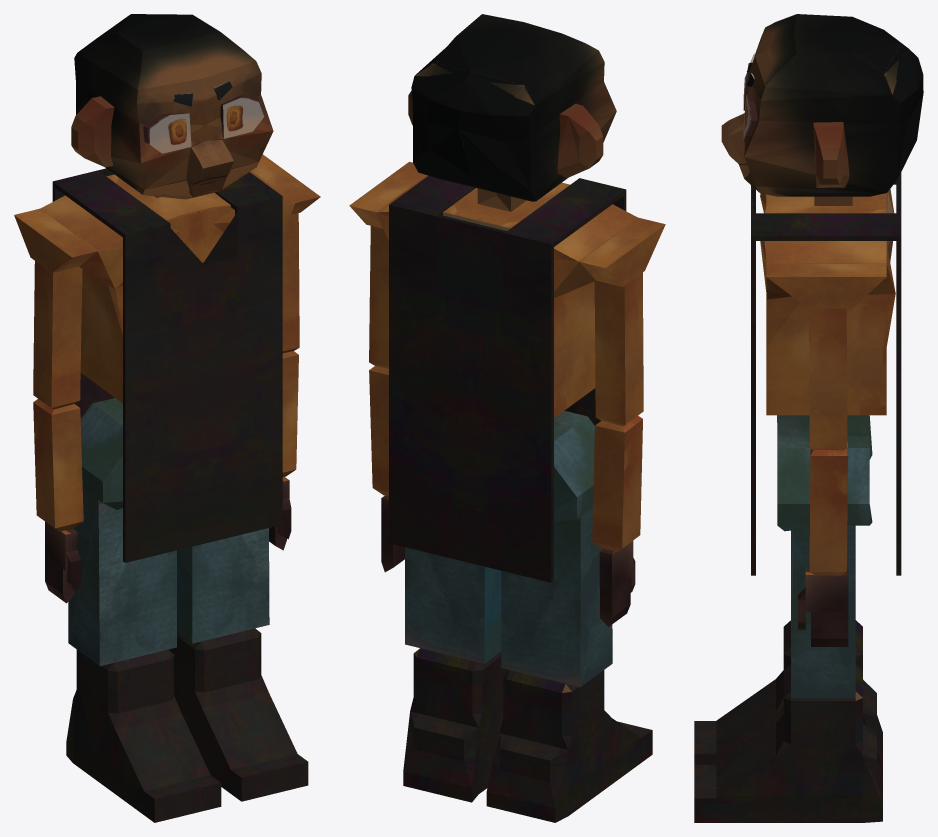
The model's file is modelBlacksmith.fbx.
3 renders of one model, left to right at view 1: azimuth 30°, elevation 25°; view 2: azimuth 150°, elevation 25°; view 3: azimuth 270°, elevation 25°, orthographic. The views are drawn at different scales.
Parts seen in each view (by area): view 1: ear; view 2: ear; view 3: ear.
Boxes of the visible parts, box(x1,y1,x2,y2) form: ear: box(14, 14, 320, 822); ear: box(349, 14, 665, 822); ear: box(694, 14, 923, 822).
Size of the model in its own units: 0.6277 by 1.75 by 0.4842.
Materials: 11 (11 with a texture image).
